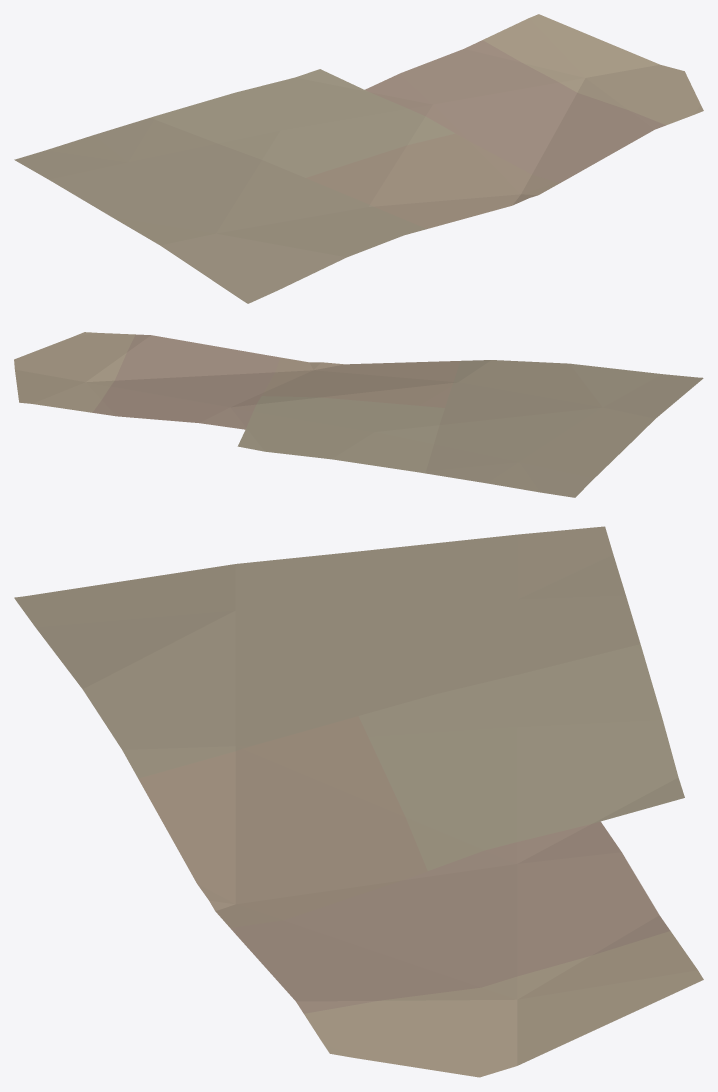
The model's file is farm_4_3_soil.glb.
The picture shows the model from 3 angles, top to bottom: view 1: azimuth 30°, elevation 25°; view 2: azimuth 150°, elevation 25°; view 3: azimuth 270°, elevation 25°; orthographic projection. The views are drawn at different scales.
Visible parts, largest first — view 1: geometry_0; view 2: geometry_0; view 3: geometry_0.
Boxes of the visible parts, x1,y1,x2,y2 form: geometry_0: [14, 14, 703, 303]; geometry_0: [14, 332, 703, 497]; geometry_0: [14, 526, 703, 1077].
Size of the model in its own units: 331 by 22.77 by 196.
